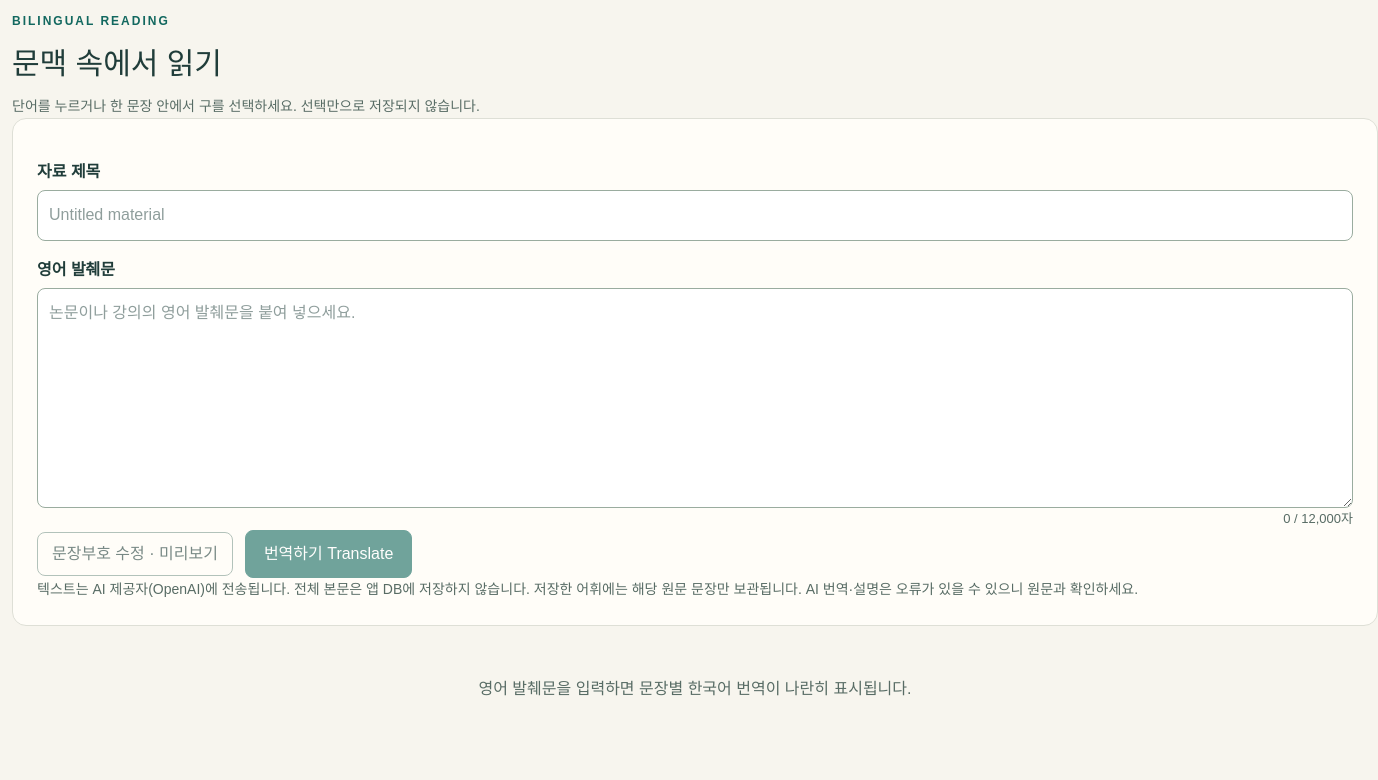
Test case: real reading component with mocked HTTP integration › translation failure preserves input and allows retry
This screenshot has width=1378, height=780.
In the text box labelled "영어 발췌문": point(695, 398) [37,288,1353,508], type "Keep this source."
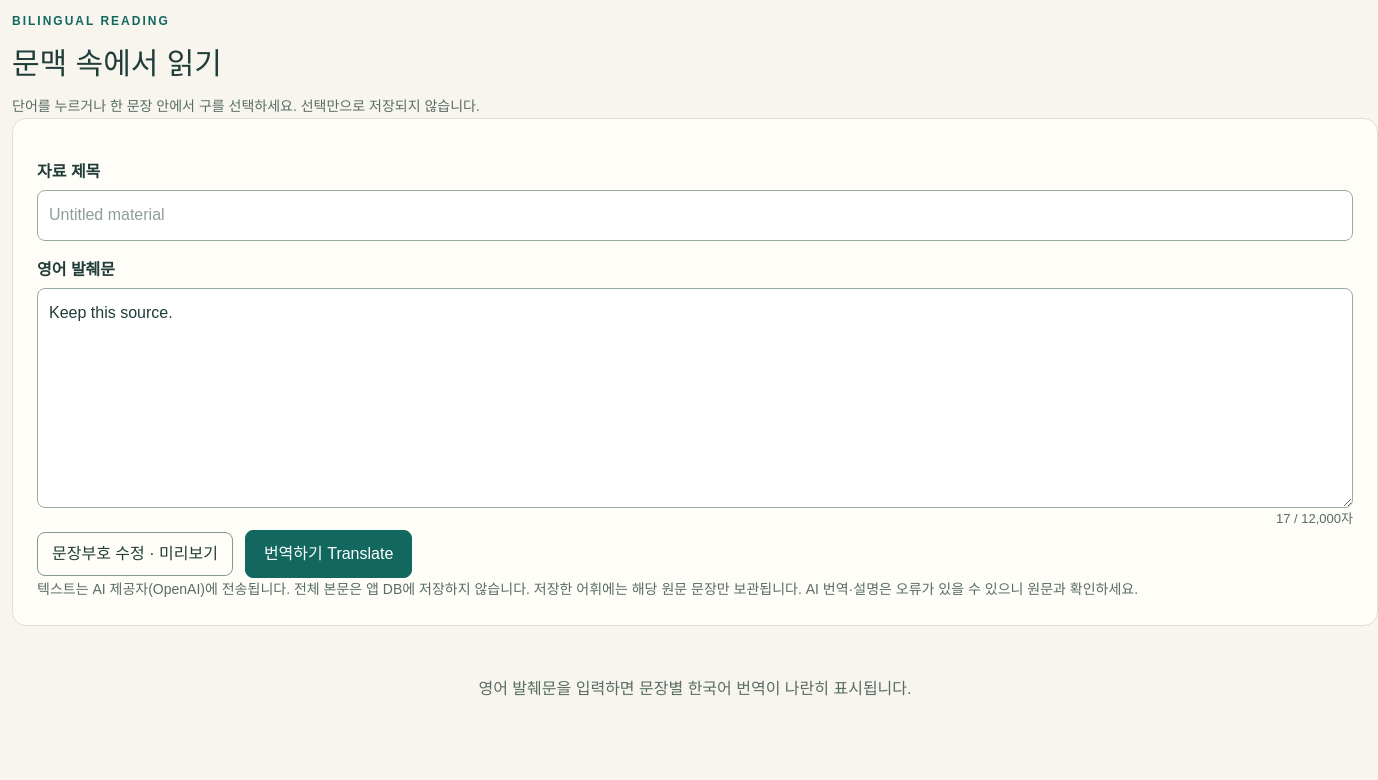
Click the button "번역하기 Translate": point(329, 554) [245,530,412,578]
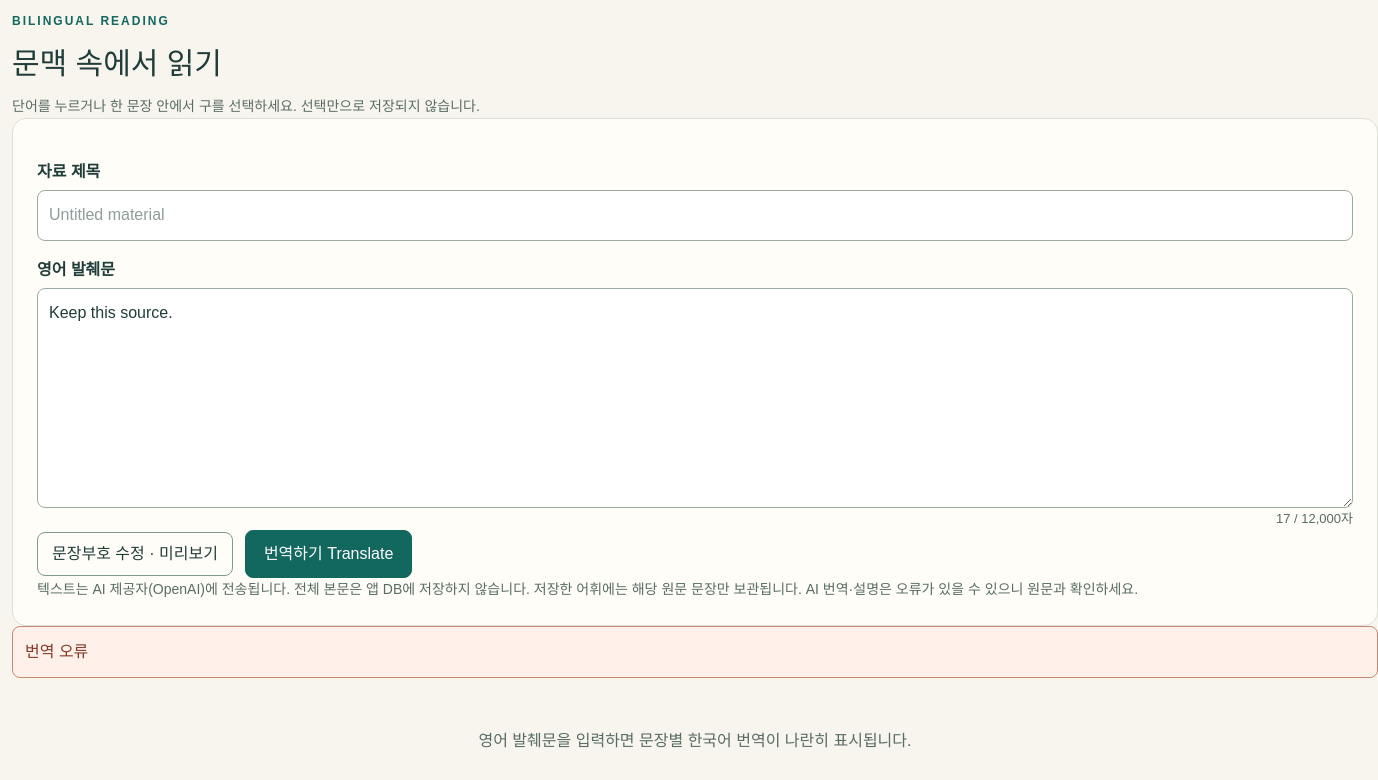
expect the button "번역하기 Translate" is enabled: met, box [245,530,412,578]
expect the text "번역 오류" is shown: met, box [12,626,1377,678]
